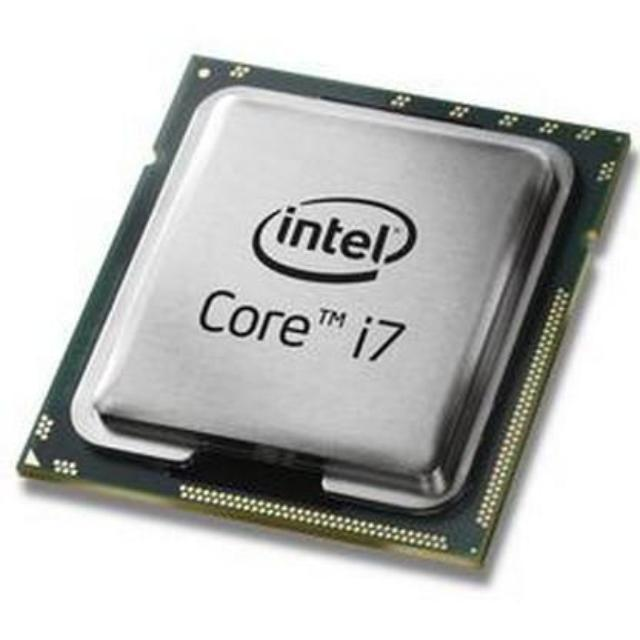CPU: (98, 62, 604, 553)
